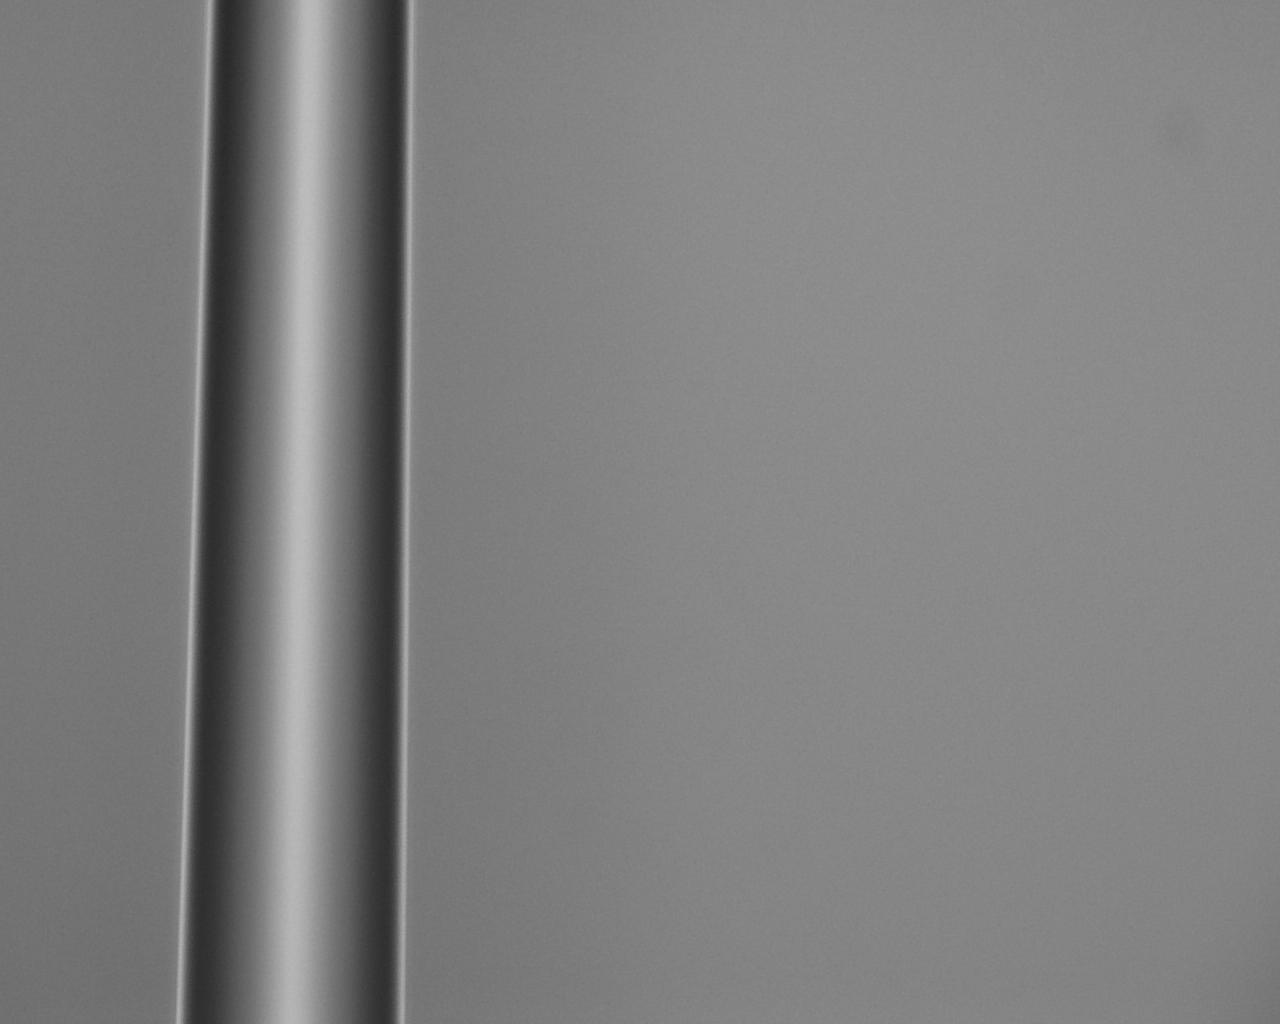fiber: (128, 343, 1152, 689)
